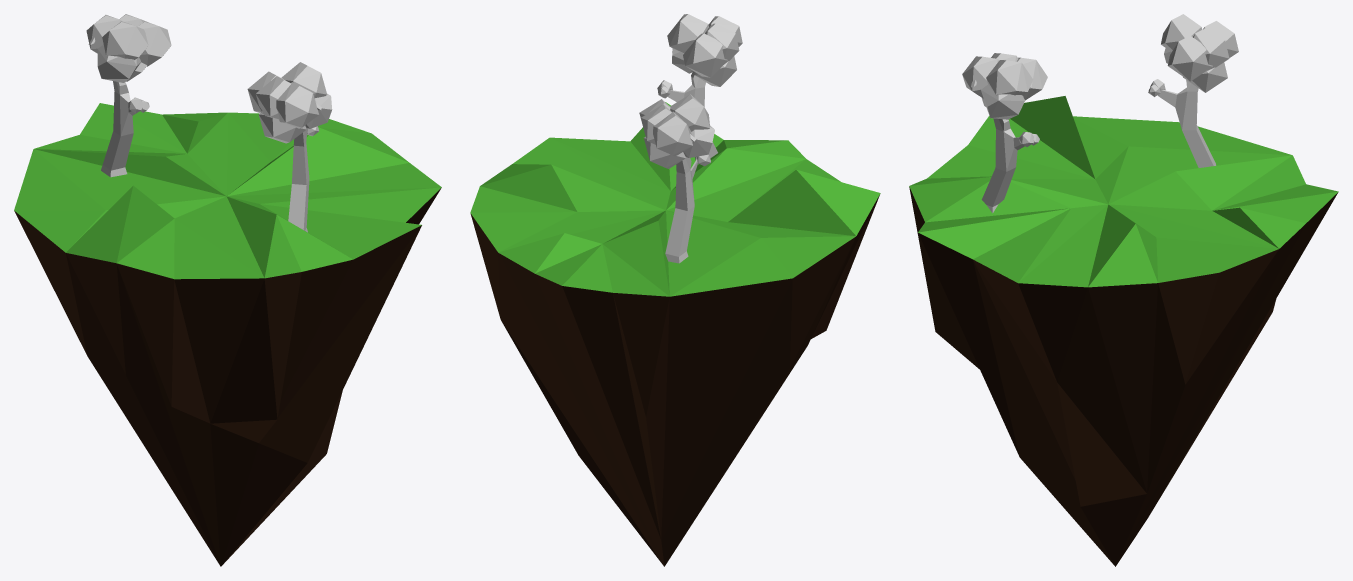
Rendered from Low Poly Island.obj.
3 renders of one model, left to right at view 1: azimuth 30°, elevation 25°; view 2: azimuth 150°, elevation 25°; view 3: azimuth 270°, elevation 25°, orthographic. The views are drawn at different scales.
Visible parts, largest first — view 1: Island_Cone.001, Tree.000_Icosphere.010, Tree.001_Icosphere.009; view 2: Island_Cone.001, Tree.001_Icosphere.009, Tree.000_Icosphere.010; view 3: Island_Cone.001, Tree.001_Icosphere.009, Tree.000_Icosphere.010.
Part boxes in pixels (bbox=[...]): Island_Cone.001: bbox=[14, 103, 441, 566]; Tree.000_Icosphere.010: bbox=[247, 62, 332, 232]; Tree.001_Icosphere.009: bbox=[86, 14, 171, 177]; Island_Cone.001: bbox=[470, 102, 880, 566]; Tree.001_Icosphere.009: bbox=[639, 94, 714, 263]; Tree.000_Icosphere.010: bbox=[657, 14, 742, 157]; Island_Cone.001: bbox=[909, 96, 1338, 566]; Tree.001_Icosphere.009: bbox=[1148, 14, 1238, 167]; Tree.000_Icosphere.010: bbox=[962, 53, 1047, 213].
Size of the model in its own units: 8.66 by 12.54 by 9.35.
